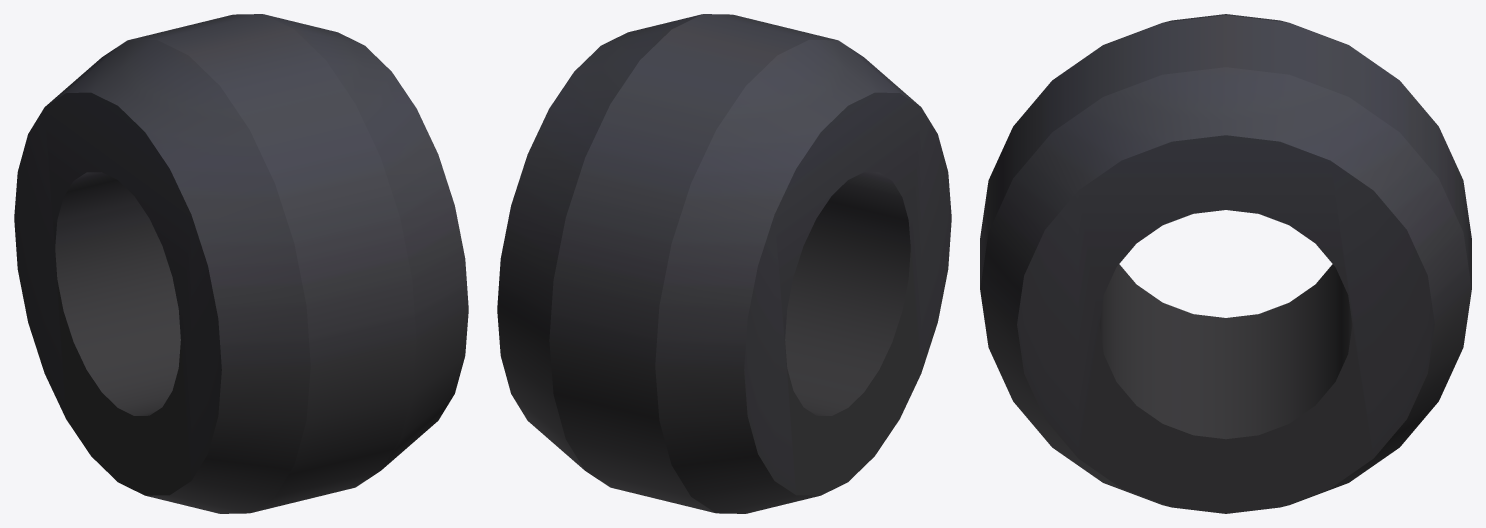
File: kenney-debris-tire.glb
The picture shows the model from 3 angles, left to right: view 1: azimuth 30°, elevation 25°; view 2: azimuth 150°, elevation 25°; view 3: azimuth 270°, elevation 25°; orthographic projection.
Parts seen in each view (by area): view 1: debris-tire; view 2: debris-tire; view 3: debris-tire.
Part boxes in pixels (bbox=[...]): debris-tire: bbox=[14, 14, 468, 513]; debris-tire: bbox=[497, 14, 951, 513]; debris-tire: bbox=[980, 14, 1471, 513].
Bounding box in the file's own units: 0.35 × 0.6 × 0.6.
Materials: 1 (1 with a texture image).
